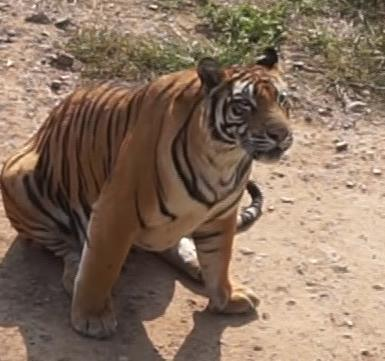tiger: (0, 47, 292, 337)
